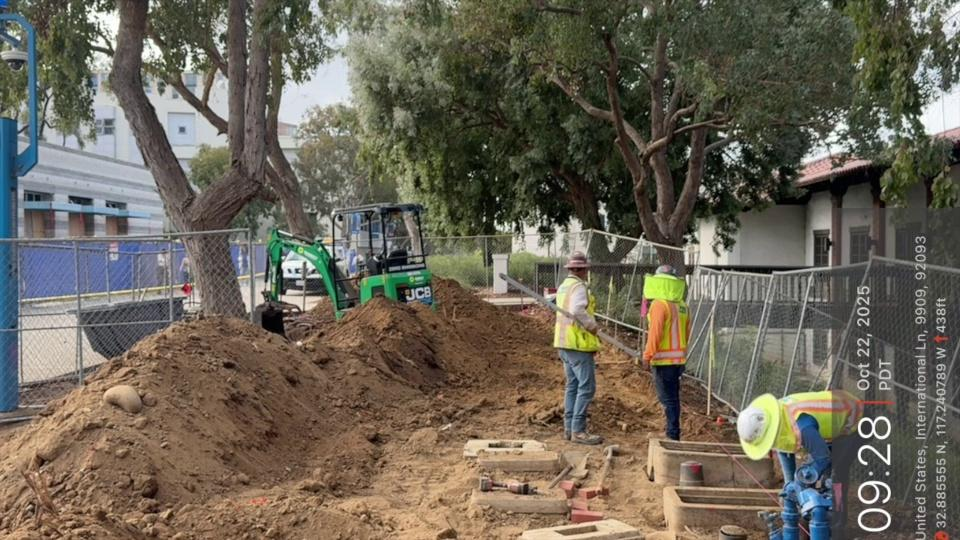Exacavator: (251, 200, 436, 338)
